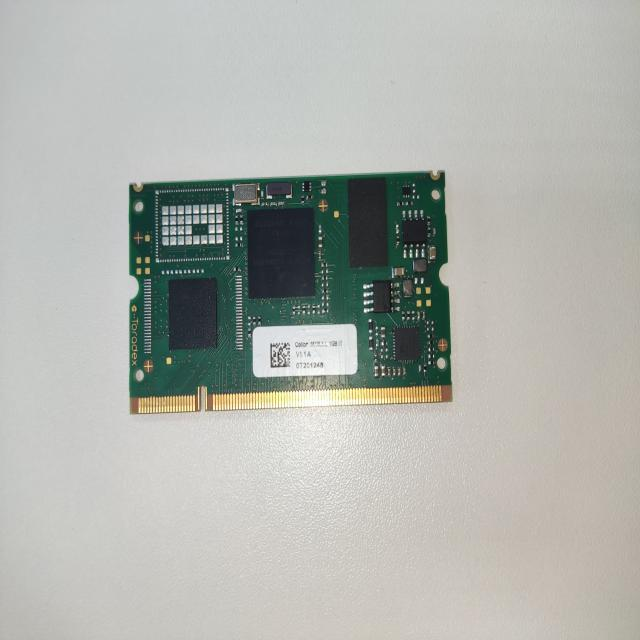som: (121, 161, 470, 426)
